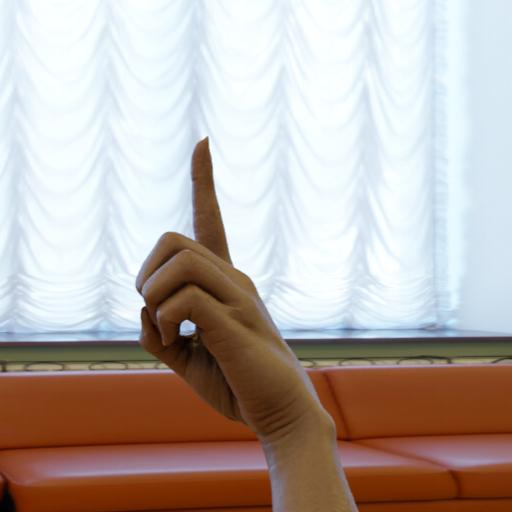D: (128, 132, 339, 443)
